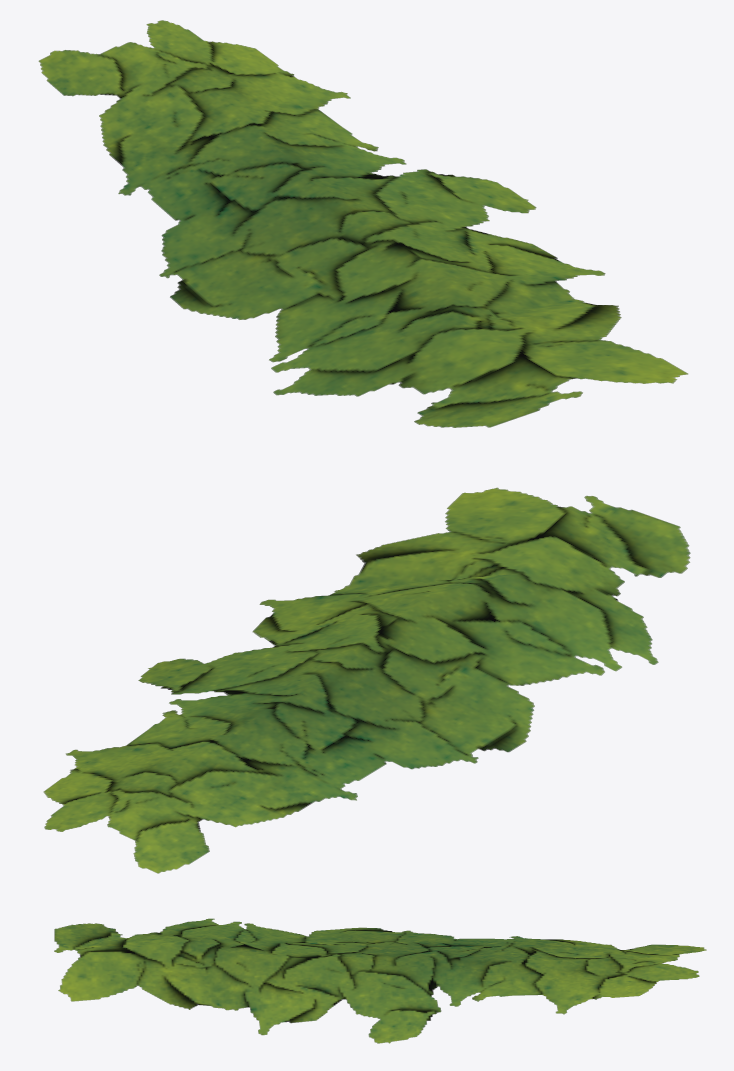
Rendered from Bush_07.fbx.
3 views of the same model, one above another, from view 1: azimuth 30°, elevation 25°; view 2: azimuth 150°, elevation 25°; view 3: azimuth 270°, elevation 25° (orthographic). The views are drawn at different scales.
Visible parts, largest first — view 1: Bush_07; view 2: Bush_07; view 3: Bush_07.
Part boxes in pixels (x1,y1,x2,y2): Bush_07: (38, 20, 688, 427); Bush_07: (43, 487, 690, 873); Bush_07: (54, 918, 706, 1043).
Size of the model in its own units: 1.42 by 0.1582 by 3.05.
